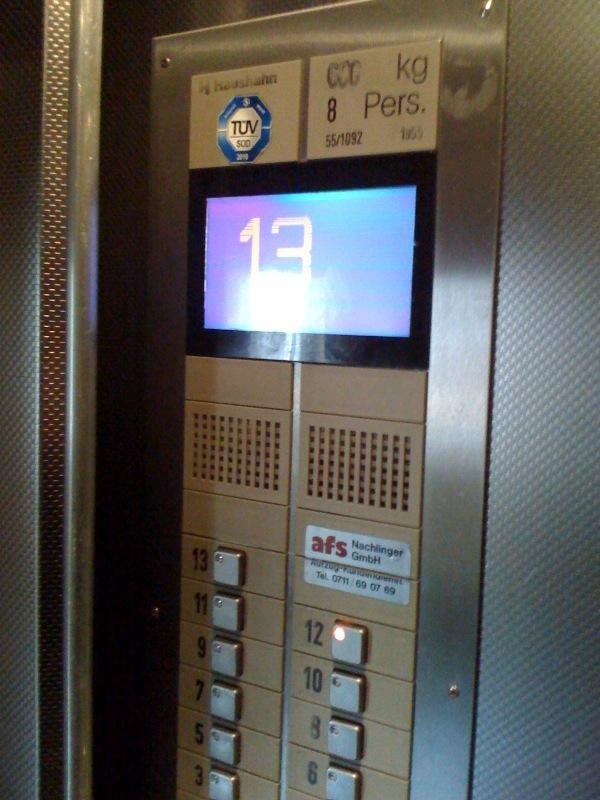10: (301, 658, 369, 716)
11: (190, 581, 248, 629)
12: (301, 607, 370, 667)
13: (190, 534, 248, 590)
3: (190, 758, 247, 800)
5: (191, 713, 248, 766)
6: (301, 753, 369, 800)
7: (190, 671, 247, 724)
8: (301, 709, 369, 763)
9: (190, 628, 247, 681)
led: (183, 145, 438, 373)
